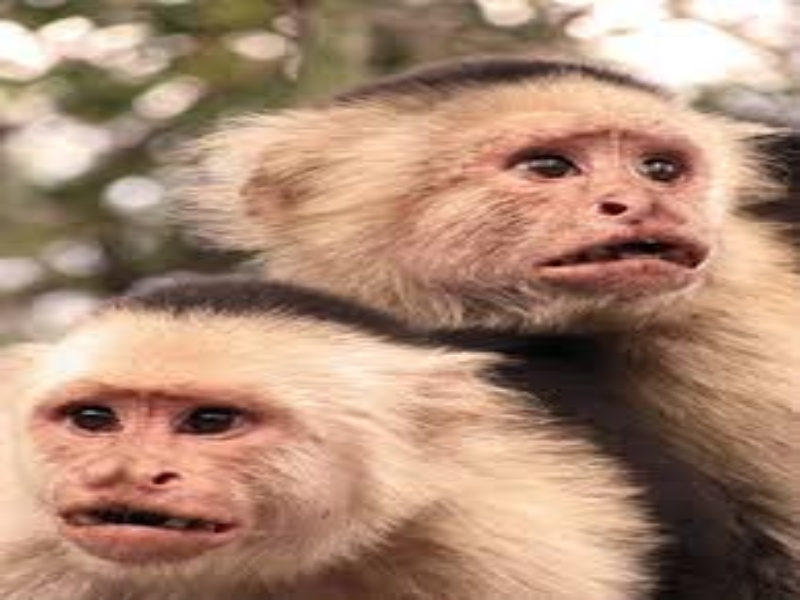monkey: (31, 68, 779, 590)
